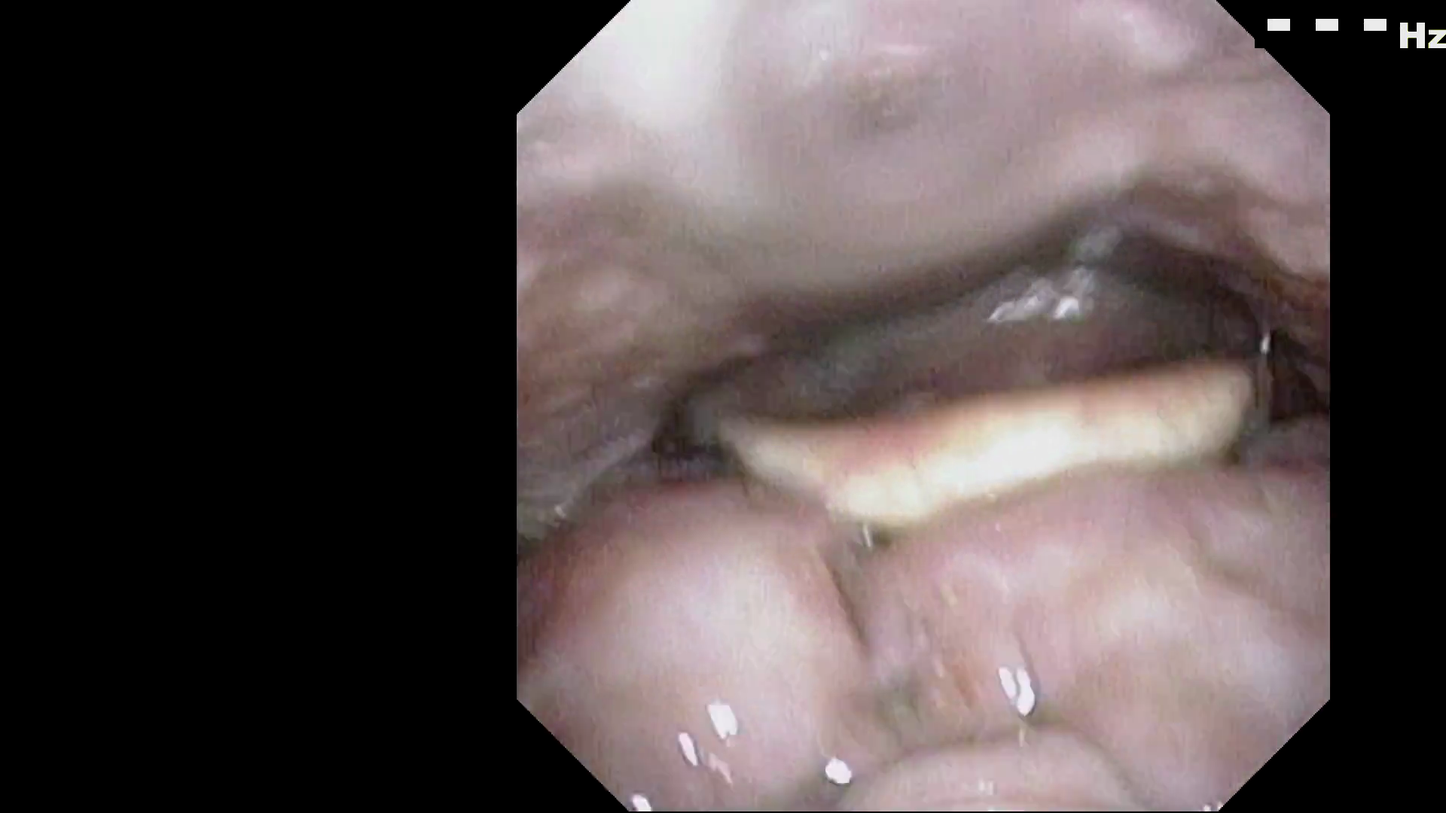epiglottis: (726, 396, 1304, 539)
